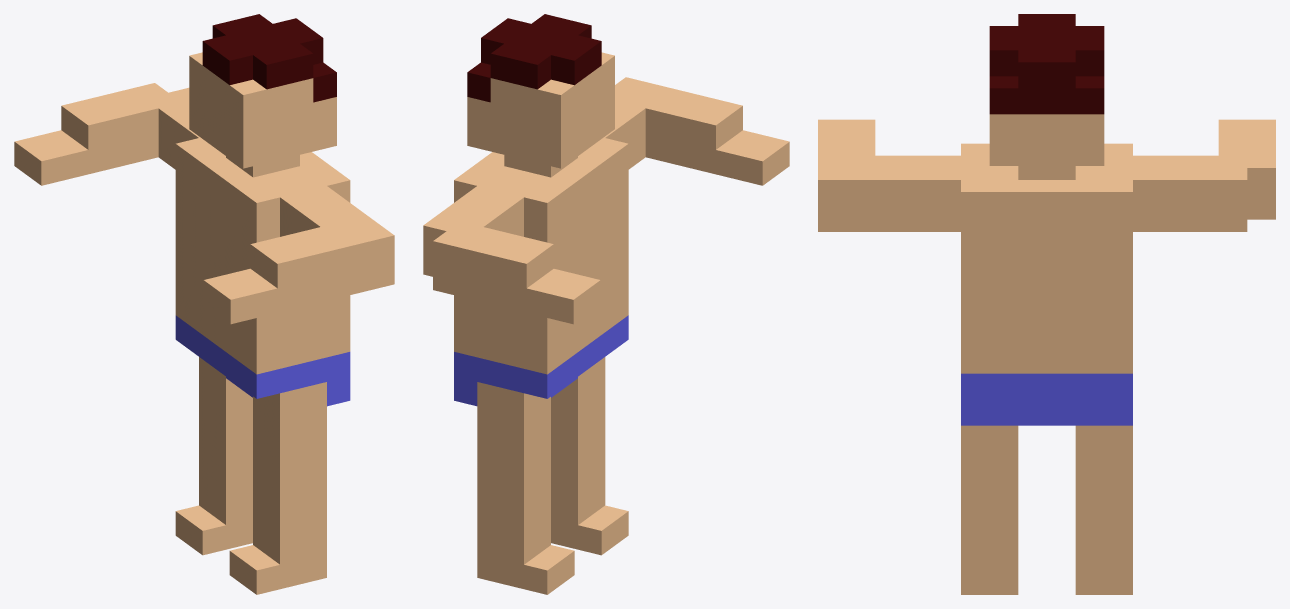
Rendered from ukko.obj.
The picture shows the model from 3 angles, left to right: view 1: azimuth 30°, elevation 25°; view 2: azimuth 150°, elevation 25°; view 3: azimuth 270°, elevation 25°; orthographic projection. The views are drawn at different scales.
Size of the model in its own units: 8 by 21 by 16.
1 material, 1 textured.
